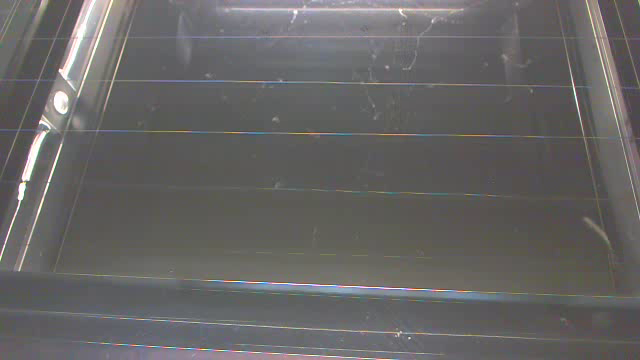alpha: (581, 216, 617, 261)
